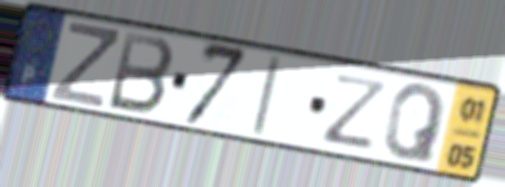7: (179, 39, 252, 130)
B: (104, 28, 177, 117)
I: (248, 53, 285, 140)
Q: (381, 82, 449, 166)
Z: (47, 18, 122, 110), (321, 71, 393, 153)
